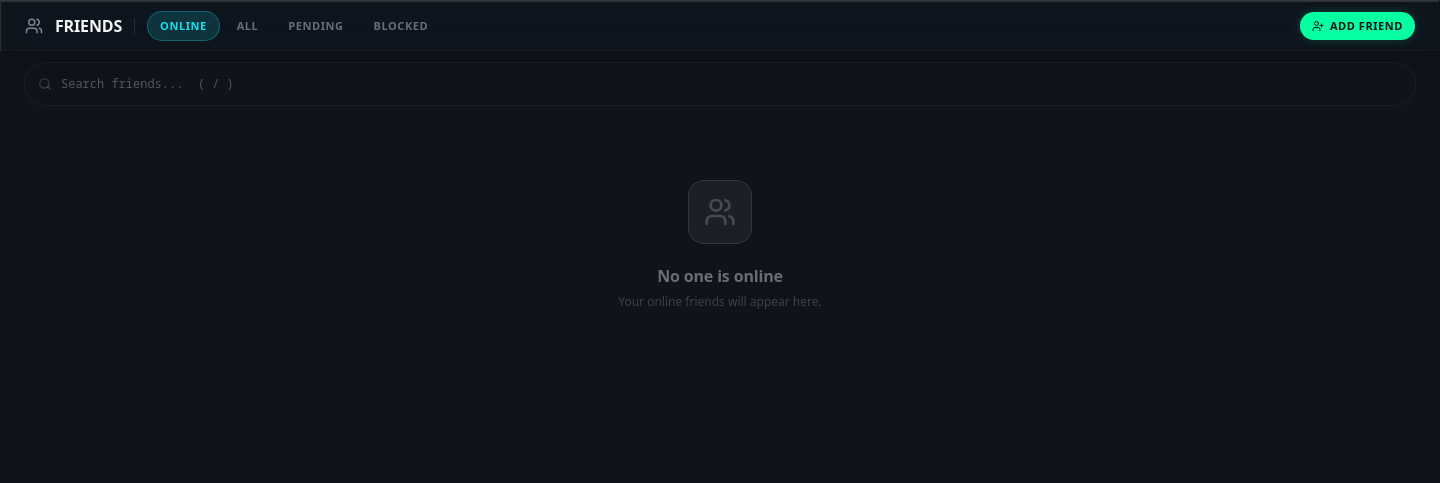
Test case: FriendsPanel › does not create a local friend-request fallback when xorein is offline
The image size is (1440, 483).
Click the button "ADD FRIEND": {"x": 1357, "y": 26} [1300,12,1415,40]
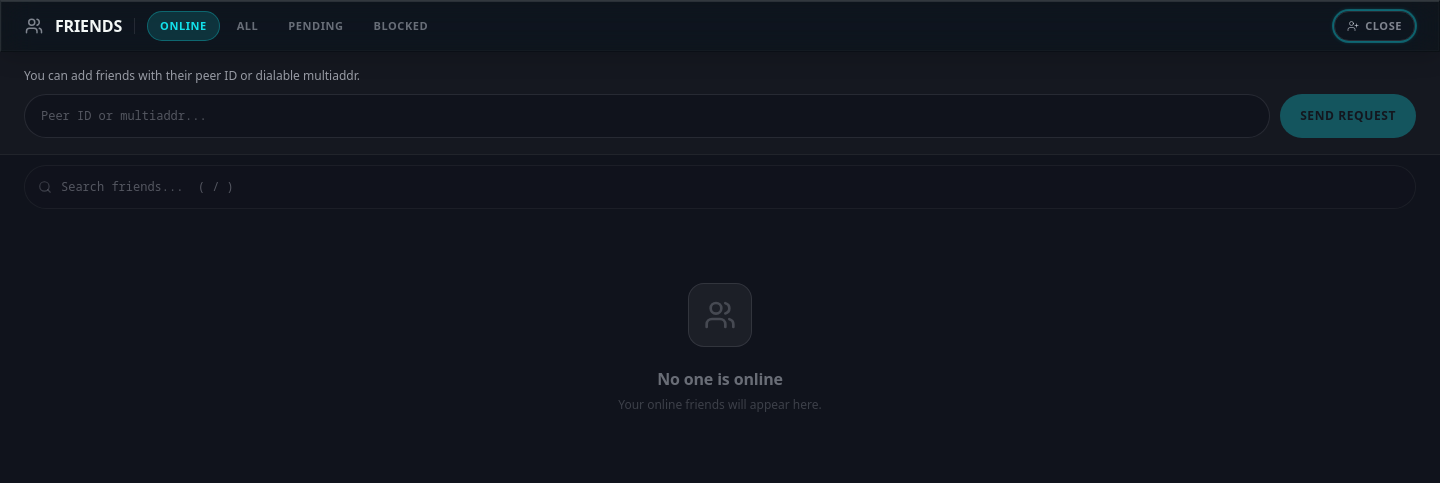
In the field with placeholder "Peer ID or multiaddr...": {"x": 647, "y": 116} [24,94,1270,138], type "peer-remote"
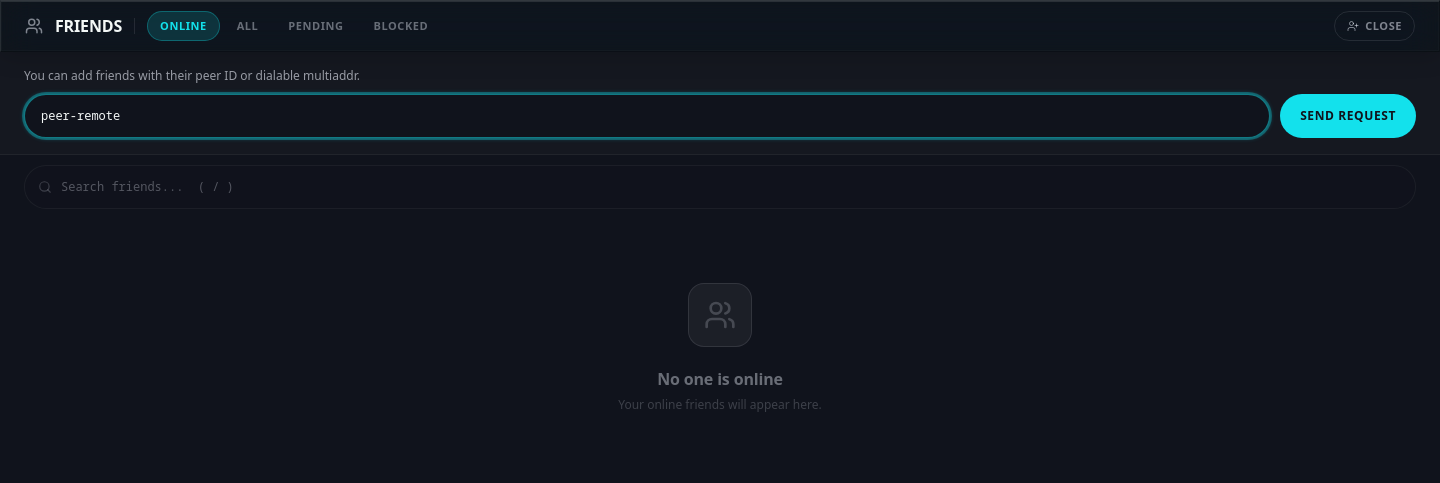
Click the button "SEND REQUEST": {"x": 1348, "y": 116} [1280,94,1416,138]
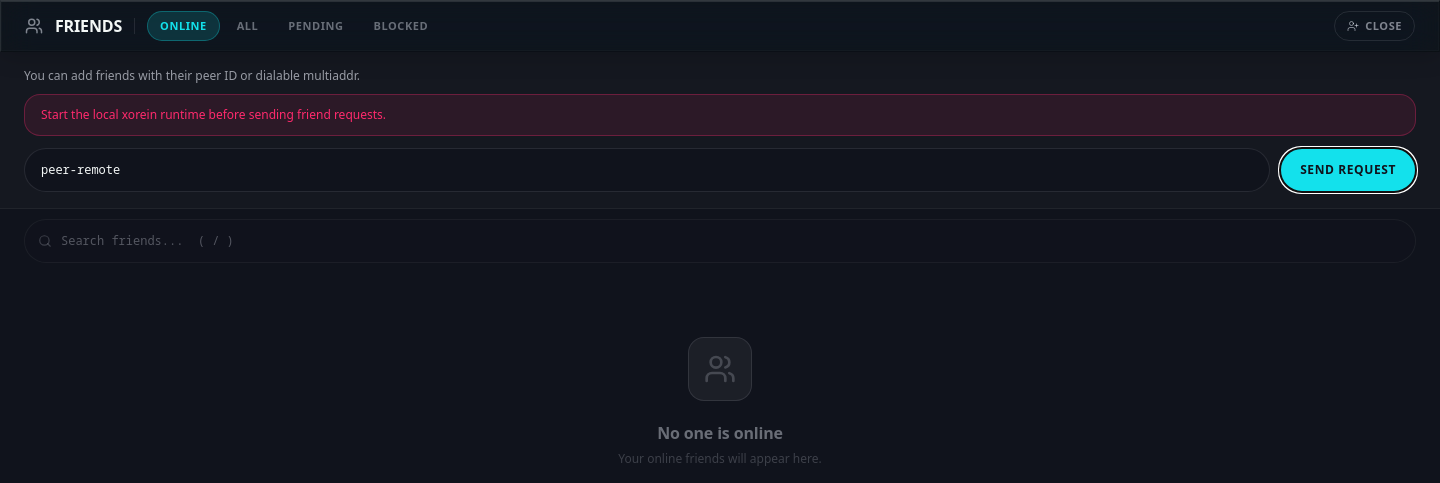
Expected: the text "Start the local xorein runtime before sending friend requests." is shown, [24,94,1416,136]
